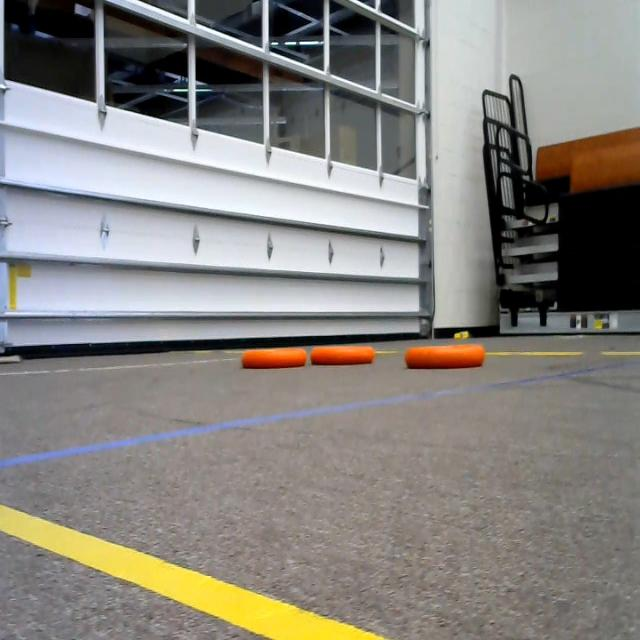note: (404, 338, 488, 376), (240, 340, 310, 370), (307, 341, 378, 368)
